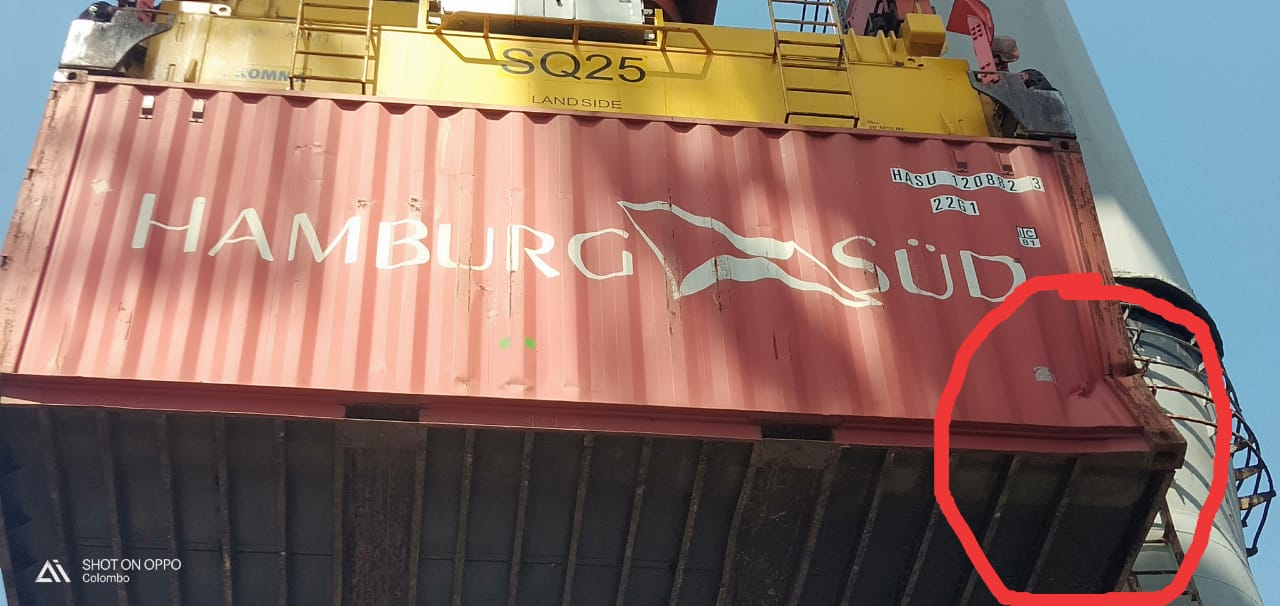bottom_side: (5, 373, 1170, 606)
right_side: (1, 93, 1187, 465)
